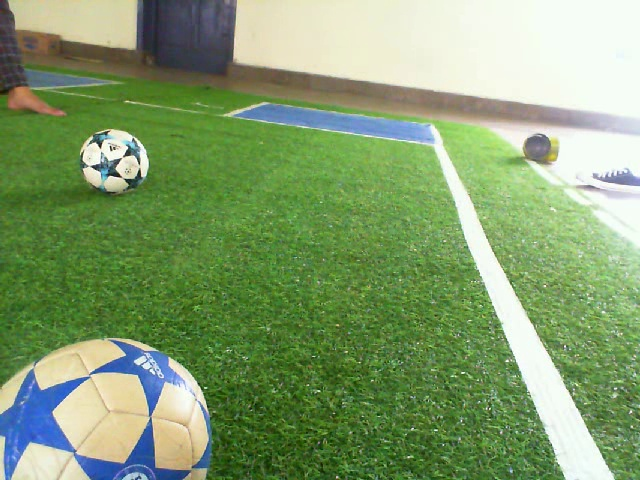ball: (1, 335, 213, 480), (77, 127, 150, 197)
